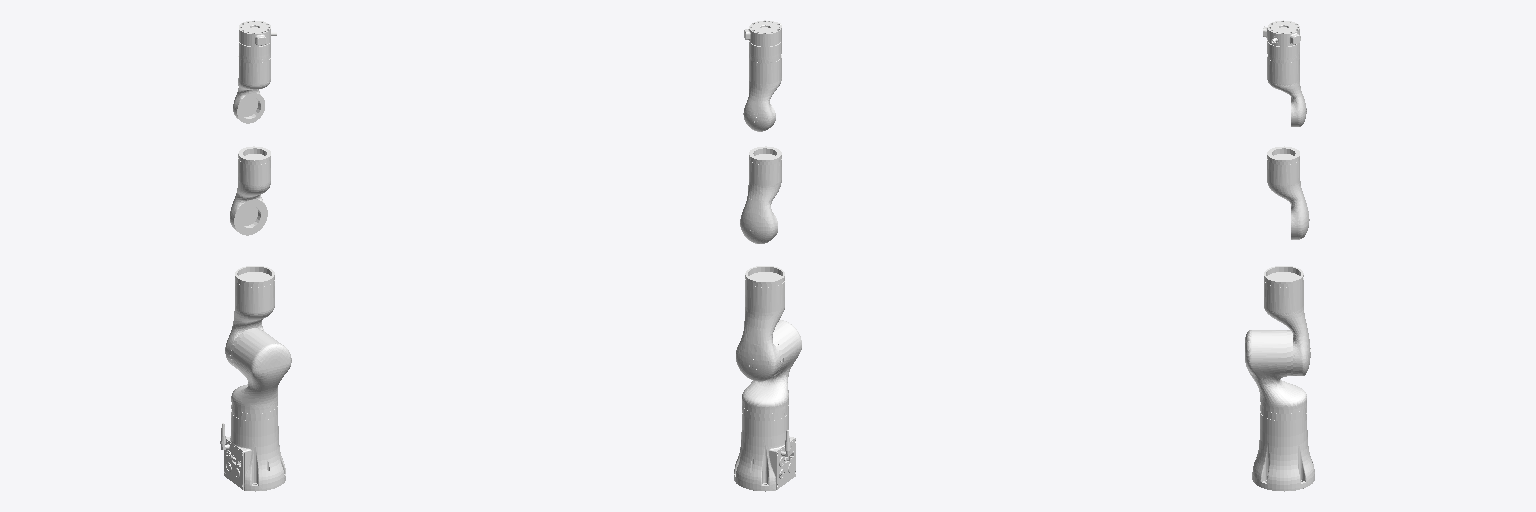
The robot description file, URDF, robot "RM75-6F":
<?xml version="1.0" encoding="utf-8"?>
<robot name="RM75-6F">
  <link name="base_link">
    <inertial>
      <origin xyz="0.00049987 5.2709E-05 0.060019" rpy="0 0 0"/>
      <mass value="1.862"/>
      <inertia ixx="0.0017232" ixy="-3.1058E-06" ixz="-3.7924E-05" iyy="0.0017051" iyz="1.3691E-06" izz="0.00090158"/>
    </inertial>
    <visual>
      <origin xyz="0 0 0" rpy="0 0 0"/>
      <geometry>
        <mesh filename="visual/base_link.obj"/>
      </geometry>
      <material name="">
        <color rgba="1 1 1 1"/>
      </material>
    </visual>
    <collision>
      <geometry>
        <mesh filename="collision/base_link_collision_0_part_0.obj"/>
      </geometry>
      <origin xyz="0 0 0" rpy="0 0 0"/>
    </collision>
    <collision>
      <geometry>
        <mesh filename="collision/base_link_collision_0_part_1.obj"/>
      </geometry>
      <origin xyz="0 0 0" rpy="0 0 0"/>
    </collision>
    <collision>
      <geometry>
        <mesh filename="collision/base_link_collision_0_part_2.obj"/>
      </geometry>
      <origin xyz="0 0 0" rpy="0 0 0"/>
    </collision>
    <collision>
      <geometry>
        <mesh filename="collision/base_link_collision_0_part_3.obj"/>
      </geometry>
      <origin xyz="0 0 0" rpy="0 0 0"/>
    </collision>
    <collision>
      <geometry>
        <mesh filename="collision/base_link_collision_0_part_4.obj"/>
      </geometry>
      <origin xyz="0 0 0" rpy="0 0 0"/>
    </collision>
    <collision>
      <geometry>
        <mesh filename="collision/base_link_collision_0_part_5.obj"/>
      </geometry>
      <origin xyz="0 0 0" rpy="0 0 0"/>
    </collision>
    <collision>
      <geometry>
        <mesh filename="collision/base_link_collision_0_part_6.obj"/>
      </geometry>
      <origin xyz="0 0 0" rpy="0 0 0"/>
    </collision>
    <collision>
      <geometry>
        <mesh filename="collision/base_link_collision_0_part_7.obj"/>
      </geometry>
      <origin xyz="0 0 0" rpy="0 0 0"/>
    </collision>
  </link>
  <link name="link_1">
    <inertial>
      <origin xyz="0.000241 -0.013273 -0.00995" rpy="0 0 0"/>
      <mass value="1.574"/>
      <inertia ixx="0.002487573" ixy="0.000009663" ixz="-0.000007909" iyy="0.002321038" iyz="0.000179393" izz="0.001450554"/>
    </inertial>
    <visual>
      <origin xyz="0 0 0" rpy="0 0 0"/>
      <geometry>
        <mesh filename="visual/link_1.obj"/>
      </geometry>
      <material name="">
        <color rgba="1 1 1 1"/>
      </material>
    </visual>
    <collision>
      <geometry>
        <mesh filename="collision/link_1_collision_0_part_0.obj"/>
      </geometry>
      <origin xyz="0 0 0" rpy="0 0 0"/>
    </collision>
    <collision>
      <geometry>
        <mesh filename="collision/link_1_collision_0_part_1.obj"/>
      </geometry>
      <origin xyz="0 0 0" rpy="0 0 0"/>
    </collision>
    <collision>
      <geometry>
        <mesh filename="collision/link_1_collision_0_part_2.obj"/>
      </geometry>
      <origin xyz="0 0 0" rpy="0 0 0"/>
    </collision>
    <collision>
      <geometry>
        <mesh filename="collision/link_1_collision_0_part_3.obj"/>
      </geometry>
      <origin xyz="0 0 0" rpy="0 0 0"/>
    </collision>
    <collision>
      <geometry>
        <mesh filename="collision/link_1_collision_0_part_4.obj"/>
      </geometry>
      <origin xyz="0 0 0" rpy="0 0 0"/>
    </collision>
    <collision>
      <geometry>
        <mesh filename="collision/link_1_collision_0_part_5.obj"/>
      </geometry>
      <origin xyz="0 0 0" rpy="0 0 0"/>
    </collision>
    <collision>
      <geometry>
        <mesh filename="collision/link_1_collision_0_part_6.obj"/>
      </geometry>
      <origin xyz="0 0 0" rpy="0 0 0"/>
    </collision>
    <collision>
      <geometry>
        <mesh filename="collision/link_1_collision_0_part_7.obj"/>
      </geometry>
      <origin xyz="0 0 0" rpy="0 0 0"/>
    </collision>
  </link>
  <link name="link_2">
    <inertial>
      <origin xyz="-0.000357 -0.106789 0.005329" rpy="0 0 0"/>
      <mass value="1.217"/>
      <inertia ixx="0.003494121" ixy="0.000002921" ixz="-0.000005613" iyy="0.000892721" iyz="-0.000583884" izz="0.003444080"/>
    </inertial>
    <visual>
      <origin xyz="0 0 0" rpy="0 0 0"/>
      <geometry>
        <mesh filename="visual/link_2.obj"/>
      </geometry>
      <material name="">
        <color rgba="1 1 1 1"/>
      </material>
    </visual>
    <collision>
      <geometry>
        <mesh filename="collision/link_2_collision_0_part_0.obj"/>
      </geometry>
      <origin xyz="0 0 0" rpy="0 0 0"/>
    </collision>
    <collision>
      <geometry>
        <mesh filename="collision/link_2_collision_0_part_1.obj"/>
      </geometry>
      <origin xyz="0 0 0" rpy="0 0 0"/>
    </collision>
    <collision>
      <geometry>
        <mesh filename="collision/link_2_collision_0_part_2.obj"/>
      </geometry>
      <origin xyz="0 0 0" rpy="0 0 0"/>
    </collision>
    <collision>
      <geometry>
        <mesh filename="collision/link_2_collision_0_part_3.obj"/>
      </geometry>
      <origin xyz="0 0 0" rpy="0 0 0"/>
    </collision>
    <collision>
      <geometry>
        <mesh filename="collision/link_2_collision_0_part_4.obj"/>
      </geometry>
      <origin xyz="0 0 0" rpy="0 0 0"/>
    </collision>
    <collision>
      <geometry>
        <mesh filename="collision/link_2_collision_0_part_5.obj"/>
      </geometry>
      <origin xyz="0 0 0" rpy="0 0 0"/>
    </collision>
    <collision>
      <geometry>
        <mesh filename="collision/link_2_collision_0_part_6.obj"/>
      </geometry>
      <origin xyz="0 0 0" rpy="0 0 0"/>
    </collision>
    <collision>
      <geometry>
        <mesh filename="collision/link_2_collision_0_part_7.obj"/>
      </geometry>
      <origin xyz="0 0 0" rpy="0 0 0"/>
    </collision>
  </link>
  <link name="link_3">
    <inertial>
      <origin xyz="0.000003 -0.01398 -0.011324" rpy="0 0 0"/>
      <mass value="1.11"/>
      <inertia ixx="0.001836663" ixy="0.000002259" ixz="-0.000004216" iyy="0.001498875" iyz="0.000037167" izz="0.001062545"/>
    </inertial>
    <visual>
      <origin xyz="0 0 0" rpy="0 0 0"/>
      <geometry>
        <mesh filename="visual/link_3.obj"/>
      </geometry>
      <material name="">
        <color rgba="1 1 1 1"/>
      </material>
    </visual>
    <collision>
      <geometry>
        <mesh filename="collision/link_3_collision_0_part_0.obj"/>
      </geometry>
      <origin xyz="0 0 0" rpy="0 0 0"/>
    </collision>
    <collision>
      <geometry>
        <mesh filename="collision/link_3_collision_0_part_1.obj"/>
      </geometry>
      <origin xyz="0 0 0" rpy="0 0 0"/>
    </collision>
    <collision>
      <geometry>
        <mesh filename="collision/link_3_collision_0_part_2.obj"/>
      </geometry>
      <origin xyz="0 0 0" rpy="0 0 0"/>
    </collision>
    <collision>
      <geometry>
        <mesh filename="collision/link_3_collision_0_part_3.obj"/>
      </geometry>
      <origin xyz="0 0 0" rpy="0 0 0"/>
    </collision>
    <collision>
      <geometry>
        <mesh filename="collision/link_3_collision_0_part_4.obj"/>
      </geometry>
      <origin xyz="0 0 0" rpy="0 0 0"/>
    </collision>
    <collision>
      <geometry>
        <mesh filename="collision/link_3_collision_0_part_5.obj"/>
      </geometry>
      <origin xyz="0 0 0" rpy="0 0 0"/>
    </collision>
    <collision>
      <geometry>
        <mesh filename="collision/link_3_collision_0_part_6.obj"/>
      </geometry>
      <origin xyz="0 0 0" rpy="0 0 0"/>
    </collision>
    <collision>
      <geometry>
        <mesh filename="collision/link_3_collision_0_part_7.obj"/>
      </geometry>
      <origin xyz="0 0 0" rpy="0 0 0"/>
    </collision>
  </link>
  <link name="link_4">
    <inertial>
      <origin xyz="-0.000005 -0.084658 0.004747" rpy="0 0 0"/>
      <mass value="0.685"/>
      <inertia ixx="0.001282444" ixy="-0.000000551" ixz="-0.000000630" iyy="0.000373013" iyz="-0.000232084" izz="0.001256177"/>
    </inertial>
    <visual>
      <origin xyz="0 0 0" rpy="0 0 0"/>
      <geometry>
        <mesh filename="visual/link_4.obj"/>
      </geometry>
      <material name="">
        <color rgba="1 1 1 1"/>
      </material>
    </visual>
    <collision>
      <geometry>
        <mesh filename="collision/link_4_collision_0_part_0.obj"/>
      </geometry>
      <origin xyz="0 0 0" rpy="0 0 0"/>
    </collision>
    <collision>
      <geometry>
        <mesh filename="collision/link_4_collision_0_part_1.obj"/>
      </geometry>
      <origin xyz="0 0 0" rpy="0 0 0"/>
    </collision>
    <collision>
      <geometry>
        <mesh filename="collision/link_4_collision_0_part_2.obj"/>
      </geometry>
      <origin xyz="0 0 0" rpy="0 0 0"/>
    </collision>
    <collision>
      <geometry>
        <mesh filename="collision/link_4_collision_0_part_3.obj"/>
      </geometry>
      <origin xyz="0 0 0" rpy="0 0 0"/>
    </collision>
    <collision>
      <geometry>
        <mesh filename="collision/link_4_collision_0_part_4.obj"/>
      </geometry>
      <origin xyz="0 0 0" rpy="0 0 0"/>
    </collision>
    <collision>
      <geometry>
        <mesh filename="collision/link_4_collision_0_part_5.obj"/>
      </geometry>
      <origin xyz="0 0 0" rpy="0 0 0"/>
    </collision>
    <collision>
      <geometry>
        <mesh filename="collision/link_4_collision_0_part_6.obj"/>
      </geometry>
      <origin xyz="0 0 0" rpy="0 0 0"/>
    </collision>
    <collision>
      <geometry>
        <mesh filename="collision/link_4_collision_0_part_7.obj"/>
      </geometry>
      <origin xyz="0 0 0" rpy="0 0 0"/>
    </collision>
  </link>
  <link name="link_5">
    <inertial>
      <origin xyz="0.000078 -0.012937 -0.008781" rpy="0 0 0"/>
      <mass value="0.619"/>
      <inertia ixx="0.000627336" ixy="0.000001636" ixz="-0.000001345" iyy="0.000542455" iyz="0.000034970" izz="0.000370291"/>
    </inertial>
    <visual>
      <origin xyz="0 0 0" rpy="0 0 0"/>
      <geometry>
        <mesh filename="visual/link_5.obj"/>
      </geometry>
      <material name="">
        <color rgba="1 1 1 1"/>
      </material>
    </visual>
    <collision>
      <geometry>
        <mesh filename="collision/link_5_collision_0_part_0.obj"/>
      </geometry>
      <origin xyz="0 0 0" rpy="0 0 0"/>
    </collision>
    <collision>
      <geometry>
        <mesh filename="collision/link_5_collision_0_part_1.obj"/>
      </geometry>
      <origin xyz="0 0 0" rpy="0 0 0"/>
    </collision>
    <collision>
      <geometry>
        <mesh filename="collision/link_5_collision_0_part_2.obj"/>
      </geometry>
      <origin xyz="0 0 0" rpy="0 0 0"/>
    </collision>
    <collision>
      <geometry>
        <mesh filename="collision/link_5_collision_0_part_3.obj"/>
      </geometry>
      <origin xyz="0 0 0" rpy="0 0 0"/>
    </collision>
    <collision>
      <geometry>
        <mesh filename="collision/link_5_collision_0_part_4.obj"/>
      </geometry>
      <origin xyz="0 0 0" rpy="0 0 0"/>
    </collision>
    <collision>
      <geometry>
        <mesh filename="collision/link_5_collision_0_part_5.obj"/>
      </geometry>
      <origin xyz="0 0 0" rpy="0 0 0"/>
    </collision>
    <collision>
      <geometry>
        <mesh filename="collision/link_5_collision_0_part_6.obj"/>
      </geometry>
      <origin xyz="0 0 0" rpy="0 0 0"/>
    </collision>
    <collision>
      <geometry>
        <mesh filename="collision/link_5_collision_0_part_7.obj"/>
      </geometry>
      <origin xyz="0 0 0" rpy="0 0 0"/>
    </collision>
  </link>
  <link name="link_6">
    <inertial>
      <origin xyz="-0.000014 -0.078524 0.002819" rpy="0 0 0"/>
      <mass value="0.602"/>
      <inertia ixx="0.000780774" ixy="-0.000000121" ixz="-0.000000469" iyy="0.000289973" iyz="-0.000120513" izz="0.000763955"/>
    </inertial>
    <visual>
      <origin xyz="0 0 0" rpy="0 0 0"/>
      <geometry>
        <mesh filename="visual/link_6.obj"/>
      </geometry>
      <material name="">
        <color rgba="1 1 1 1"/>
      </material>
    </visual>
    <collision>
      <geometry>
        <mesh filename="collision/link_6_collision_0_part_0.obj"/>
      </geometry>
      <origin xyz="0 0 0" rpy="0 0 0"/>
    </collision>
    <collision>
      <geometry>
        <mesh filename="collision/link_6_collision_0_part_1.obj"/>
      </geometry>
      <origin xyz="0 0 0" rpy="0 0 0"/>
    </collision>
    <collision>
      <geometry>
        <mesh filename="collision/link_6_collision_0_part_2.obj"/>
      </geometry>
      <origin xyz="0 0 0" rpy="0 0 0"/>
    </collision>
    <collision>
      <geometry>
        <mesh filename="collision/link_6_collision_0_part_3.obj"/>
      </geometry>
      <origin xyz="0 0 0" rpy="0 0 0"/>
    </collision>
    <collision>
      <geometry>
        <mesh filename="collision/link_6_collision_0_part_4.obj"/>
      </geometry>
      <origin xyz="0 0 0" rpy="0 0 0"/>
    </collision>
    <collision>
      <geometry>
        <mesh filename="collision/link_6_collision_0_part_5.obj"/>
      </geometry>
      <origin xyz="0 0 0" rpy="0 0 0"/>
    </collision>
    <collision>
      <geometry>
        <mesh filename="collision/link_6_collision_0_part_6.obj"/>
      </geometry>
      <origin xyz="0 0 0" rpy="0 0 0"/>
    </collision>
    <collision>
      <geometry>
        <mesh filename="collision/link_6_collision_0_part_7.obj"/>
      </geometry>
      <origin xyz="0 0 0" rpy="0 0 0"/>
    </collision>
  </link>
  <link name="link_7">
    <inertial>
      <origin xyz="0.001094 -0.000077 -0.010119" rpy="0 0 0"/>
      <mass value="0.144"/>
      <inertia ixx="0.000044123" ixy="-0.000000064" ixz="0.0000003" iyy="0.000035078" iyz="-0.000000029" izz="0.000065445"/>
    </inertial>
    <visual>
      <origin xyz="0 0 0" rpy="0 0 0"/>
      <geometry>
        <mesh filename="visual/link_7.obj"/>
      </geometry>
      <material name="">
        <color rgba="1 1 1 1"/>
      </material>
    </visual>
    <collision>
      <geometry>
        <mesh filename="collision/link_7_collision_0_part_0.obj"/>
      </geometry>
      <origin xyz="0 0 0" rpy="0 0 0"/>
    </collision>
    <collision>
      <geometry>
        <mesh filename="collision/link_7_collision_0_part_1.obj"/>
      </geometry>
      <origin xyz="0 0 0" rpy="0 0 0"/>
    </collision>
    <collision>
      <geometry>
        <mesh filename="collision/link_7_collision_0_part_2.obj"/>
      </geometry>
      <origin xyz="0 0 0" rpy="0 0 0"/>
    </collision>
    <collision>
      <geometry>
        <mesh filename="collision/link_7_collision_0_part_3.obj"/>
      </geometry>
      <origin xyz="0 0 0" rpy="0 0 0"/>
    </collision>
    <collision>
      <geometry>
        <mesh filename="collision/link_7_collision_0_part_4.obj"/>
      </geometry>
      <origin xyz="0 0 0" rpy="0 0 0"/>
    </collision>
    <collision>
      <geometry>
        <mesh filename="collision/link_7_collision_0_part_5.obj"/>
      </geometry>
      <origin xyz="0 0 0" rpy="0 0 0"/>
    </collision>
    <collision>
      <geometry>
        <mesh filename="collision/link_7_collision_0_part_6.obj"/>
      </geometry>
      <origin xyz="0 0 0" rpy="0 0 0"/>
    </collision>
    <collision>
      <geometry>
        <mesh filename="collision/link_7_collision_0_part_7.obj"/>
      </geometry>
      <origin xyz="0 0 0" rpy="0 0 0"/>
    </collision>
  </link>
  <link name="base"/>
  <link name="tool0"/>
  <joint name="joint_1" type="revolute">
    <origin xyz="0 0 0.2405" rpy="0 0 0"/>
    <parent link="base_link"/>
    <child link="link_1"/>
    <axis xyz="0 0 1"/>
    <limit lower="-3.106" upper="3.106" effort="60" velocity="3.14"/>
  </joint>
  <joint name="joint_2" type="revolute">
    <origin xyz="0 0 0" rpy="-1.5708 0 0"/>
    <parent link="link_1"/>
    <child link="link_2"/>
    <axis xyz="0 0 1"/>
    <limit lower="-2.2689" upper="2.2689" effort="60" velocity="3.14"/>
  </joint>
  <joint name="joint_3" type="revolute">
    <origin xyz="0 -0.256 0" rpy="1.5708 0 0"/>
    <parent link="link_2"/>
    <child link="link_3"/>
    <axis xyz="0 0 1"/>
    <limit lower="-3.106" upper="3.106" effort="30" velocity="3.14"/>
  </joint>
  <joint name="joint_4" type="revolute">
    <origin xyz="0 0 0" rpy="-1.5708 0 0"/>
    <parent link="link_3"/>
    <child link="link_4"/>
    <axis xyz="0 0 1"/>
    <limit lower="-2.356" upper="2.356" effort="30" velocity="3.14"/>
  </joint>
  <joint name="joint_5" type="revolute">
    <origin xyz="0 -0.21 0" rpy="1.5708 0 0"/>
    <parent link="link_4"/>
    <child link="link_5"/>
    <axis xyz="0 0 1"/>
    <limit lower="-3.106" upper="3.106" effort="10" velocity="3.14"/>
  </joint>
  <joint name="joint_6" type="revolute">
    <origin xyz="0 0 0" rpy="-1.5708 0 0"/>
    <parent link="link_5"/>
    <child link="link_6"/>
    <axis xyz="0 0 1"/>
    <limit lower="-2.234" upper="2.234" effort="10" velocity="3.14"/>
  </joint>
  <joint name="joint_7" type="revolute">
    <origin xyz="0 -0.1612 0" rpy="1.5708 0 0"/>
    <parent link="link_6"/>
    <child link="link_7"/>
    <axis xyz="0 0 1"/>
    <limit lower="-6.2832" upper="6.2832" effort="10" velocity="3.14"/>
  </joint>
  <joint name="base_link-base" type="fixed">
    <origin xyz="0 0 0" rpy="0 0 0"/>
    <parent link="base_link"/>
    <child link="base"/>
  </joint>
  <joint name="link_7-tool0" type="fixed">
    <origin xyz="0 0 0" rpy="0 0 0"/>
    <parent link="link_7"/>
    <child link="tool0"/>
  </joint>
</robot>

--- Facts derived from the render (not from the file) ---
The picture shows the robot from 3 angles, left to right: view 1: azimuth 30°, elevation 25°; view 2: azimuth 150°, elevation 25°; view 3: azimuth 270°, elevation 25°; orthographic projection.
Robot: RM75-6F — 10 links, 9 joints (7 revolute, 2 fixed); root link base_link; default pose: all joints at 0.
Visible links, largest first — view 1: base_link, link_1, link_4, link_2, link_6, link_7; view 2: link_2, base_link, link_4, link_1, link_6, link_7; view 3: base_link, link_1, link_2, link_4, link_6, link_7.
Boxes of the visible links, x1=… form: base_link: x1=220, y1=407, x2=285, y2=491; link_1: x1=230, y1=328, x2=291, y2=415; link_4: x1=230, y1=146, x2=270, y2=235; link_2: x1=225, y1=266, x2=274, y2=368; link_6: x1=233, y1=55, x2=270, y2=123; link_7: x1=238, y1=20, x2=276, y2=63; link_2: x1=736, y1=266, x2=784, y2=381; base_link: x1=734, y1=408, x2=795, y2=491; link_4: x1=740, y1=146, x2=781, y2=243; link_1: x1=742, y1=320, x2=801, y2=415; link_6: x1=743, y1=54, x2=781, y2=131; link_7: x1=744, y1=20, x2=781, y2=63; base_link: x1=1252, y1=407, x2=1314, y2=491; link_1: x1=1245, y1=330, x2=1306, y2=415; link_2: x1=1264, y1=266, x2=1310, y2=375; link_4: x1=1267, y1=146, x2=1309, y2=239; link_6: x1=1267, y1=55, x2=1306, y2=126; link_7: x1=1263, y1=20, x2=1300, y2=63.
Size in the robot's own frame: 0.1143 by 0.123 by 0.8677 metres.
6 mesh visuals loaded from 8 distinct referenced files (6 OBJ); not drawn: 2 (reference not matched to a file when rendering).
